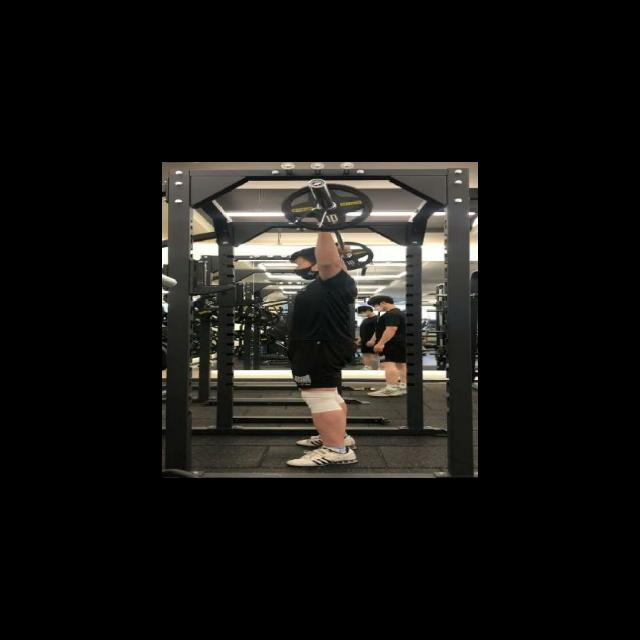barbell: (280, 176, 373, 233)
